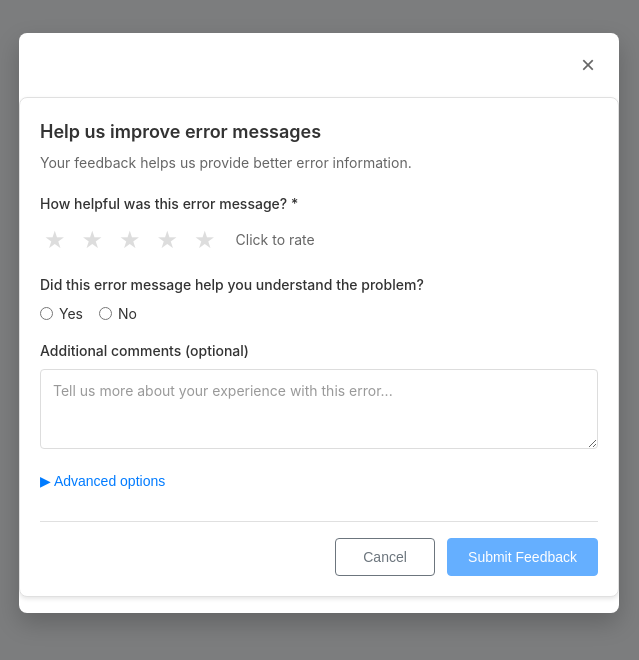
Test case: ErrorFeedbackModal › Feedback Submission › should dismiss error message
The image size is (639, 660).
# Trigger error
Click the button named "Rate 1 stars".
click(55, 240)  # box [40, 222, 70, 258]
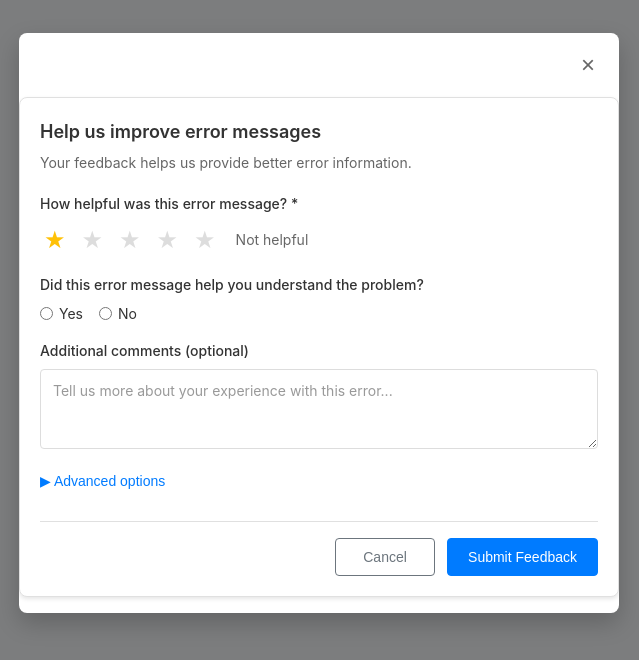
Click the button "Submit Feedback".
click(522, 557)  # box [447, 538, 598, 576]
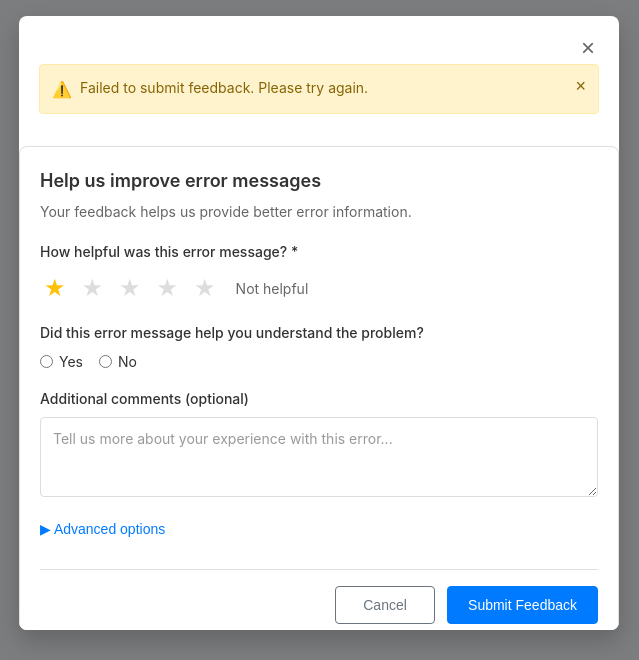
Result: the text "Failed to submit feedback. Please try again." is shown at [80, 79, 368, 96]
# Dismiss error
Click the button with class "error-feedback-modal__error-dismiss".
click(581, 86)  # box [576, 77, 586, 95]
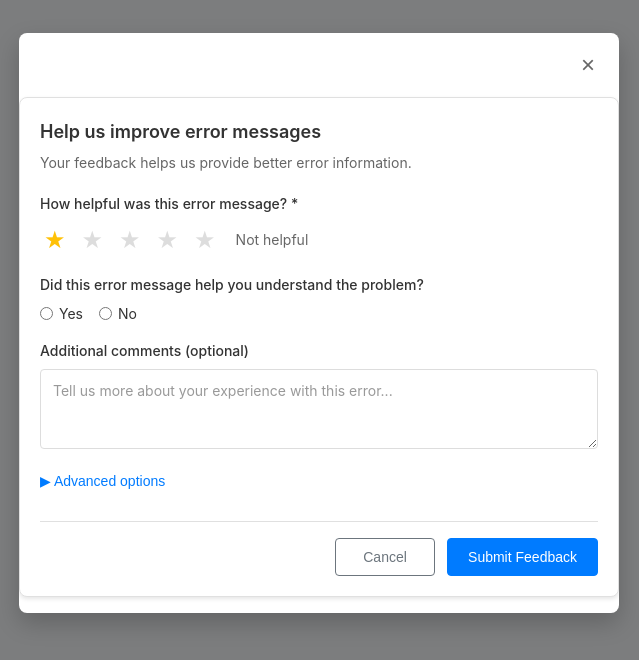
Result: the text "Failed to submit feedback. Please try again." is gone
